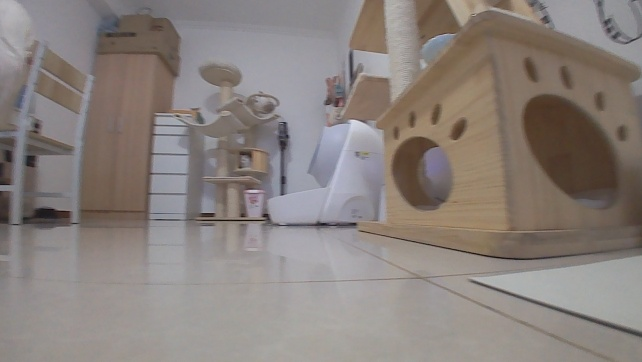wire: (590, 0, 641, 46)
